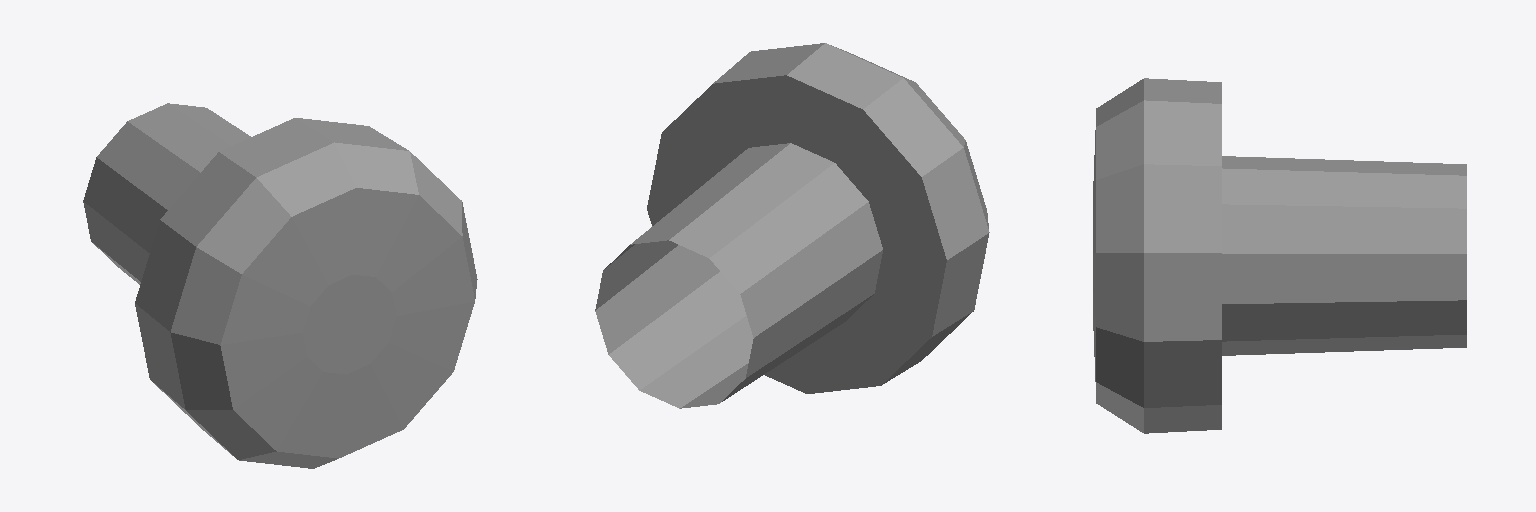
File: MachineBossBoostStarPad.obj
The picture shows the model from 3 angles: view 1: azimuth 30°, elevation 25°; view 2: azimuth 150°, elevation 25°; view 3: azimuth 270°, elevation 25°; orthographic projection.
Parts seen in each view (by area): view 1: BossArm.001_BossArm.002; view 2: BossArm.001_BossArm.002; view 3: BossArm.001_BossArm.002.
Part boxes in pixels (bbox=[...]): BossArm.001_BossArm.002: bbox=[83, 103, 477, 468]; BossArm.001_BossArm.002: bbox=[595, 43, 989, 408]; BossArm.001_BossArm.002: bbox=[1093, 78, 1466, 433].
Bounding box in the file's own units: 829 × 829 × 875.